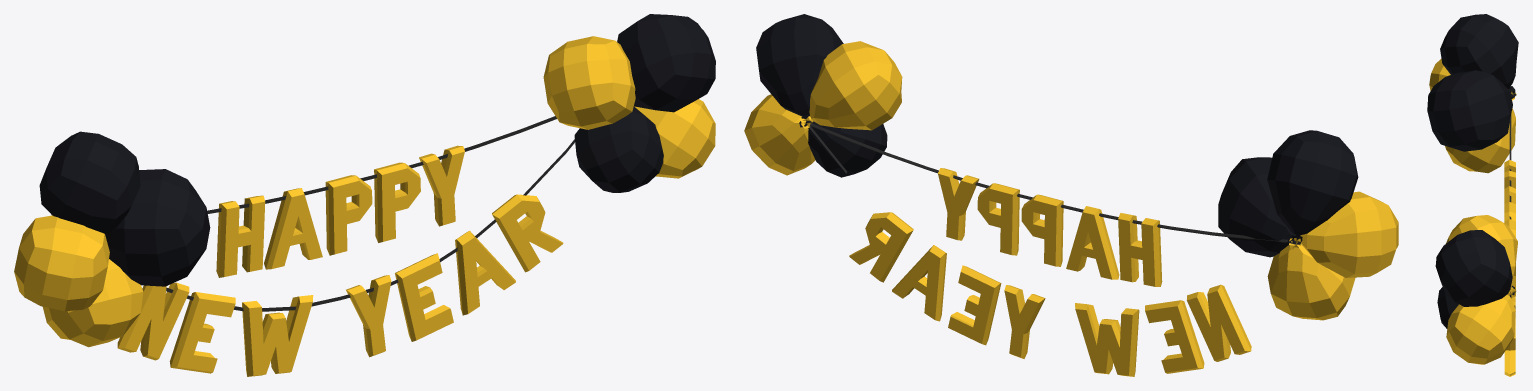
The model's file is props-balloons-sign-happy-new-year.glb.
3 views of the same model, side by side, from view 1: azimuth 30°, elevation 25°; view 2: azimuth 150°, elevation 25°; view 3: azimuth 270°, elevation 25° (orthographic). The views are drawn at different scales.
Parts seen in each view (by area): view 1: balloons-sign-happy-new-year; view 2: balloons-sign-happy-new-year; view 3: balloons-sign-happy-new-year.
Boxes of the visible parts, x1,y1,x2,y2 form: balloons-sign-happy-new-year: (14,14,715,376); balloons-sign-happy-new-year: (744,14,1398,376); balloons-sign-happy-new-year: (1427,14,1518,376).
Bounding box in the file's own units: 2.59 × 1.09 × 0.3934.
